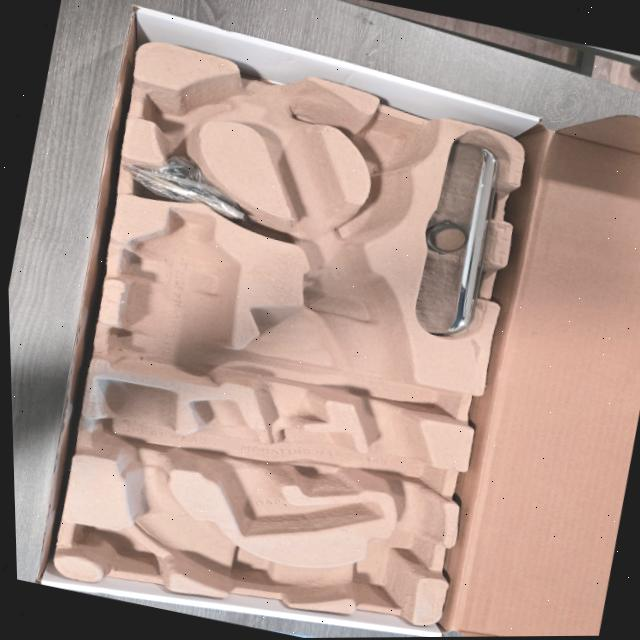1m: (103, 58, 444, 599)
2m: (196, 400, 373, 529)
3m: (113, 209, 236, 384)
4: (414, 141, 497, 335)
5m: (356, 111, 426, 173)
6m: (136, 89, 233, 131)
7: (117, 156, 250, 221)
